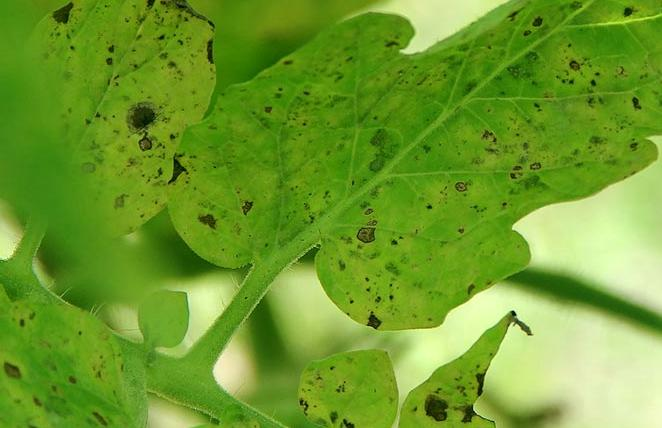Tomato Septoria leaf spot: (165, 0, 662, 316), (0, 0, 249, 307)
